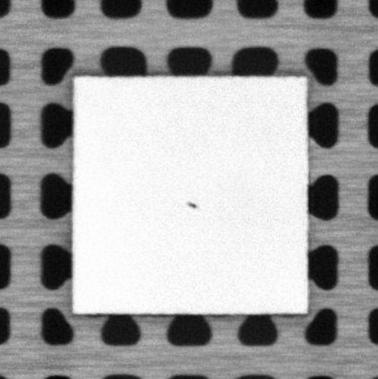DIE_INK: (184, 200, 198, 210)
